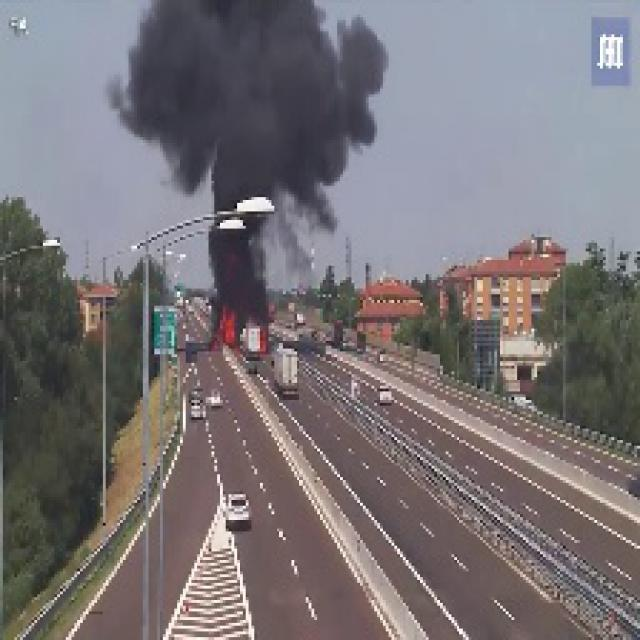fire: (212, 294, 272, 357)
